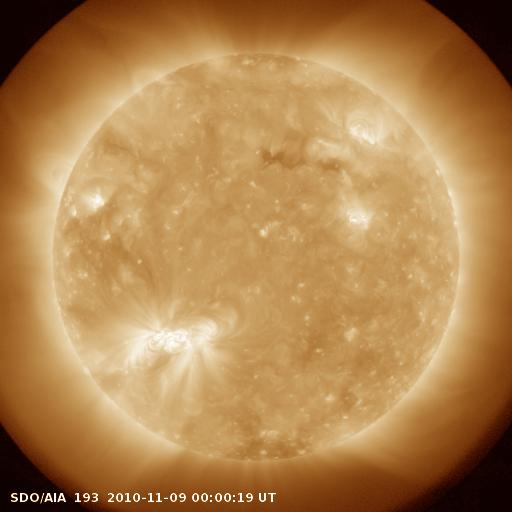coronal_hole: (255, 143, 345, 179)
